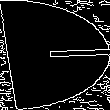L_W: (6, 38, 104, 72)
